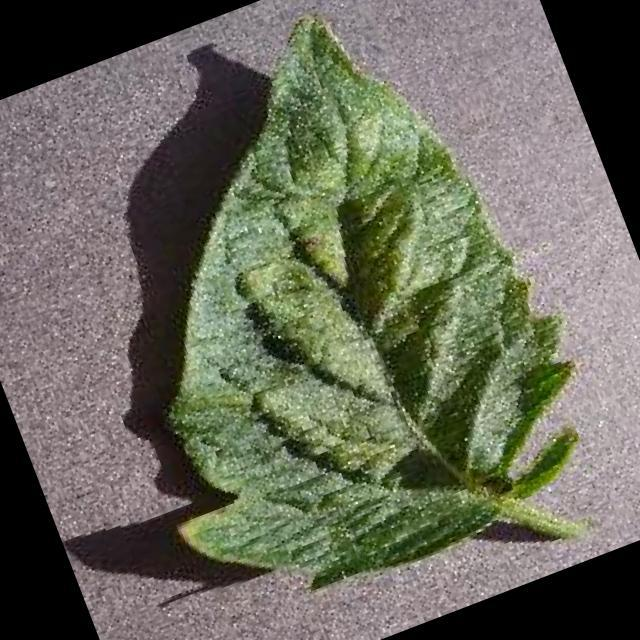Tomato spider mites leaf: (18, 0, 624, 639)
